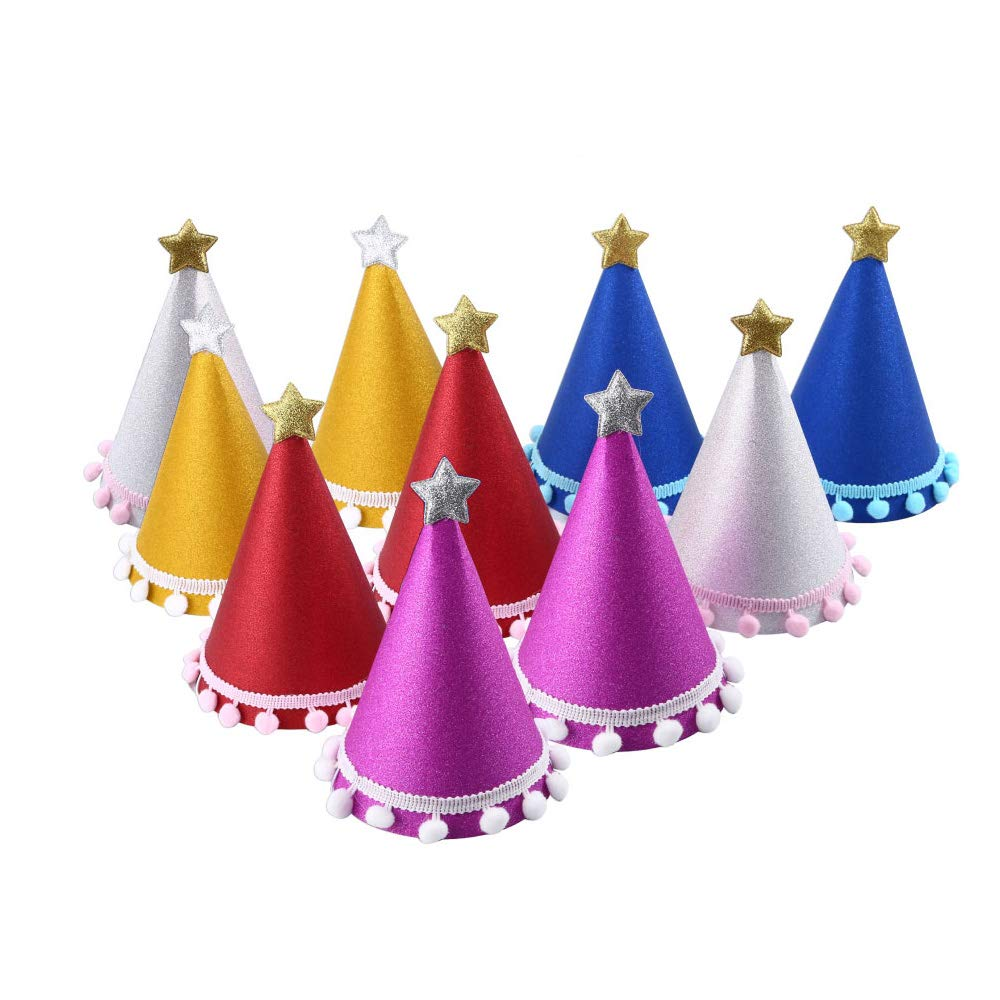cone: (331, 517, 554, 840), (512, 429, 727, 752), (194, 435, 387, 730), (369, 347, 561, 638), (667, 348, 855, 635), (99, 266, 274, 529), (529, 263, 705, 523), (790, 257, 952, 523), (129, 350, 269, 616), (311, 263, 442, 528)
